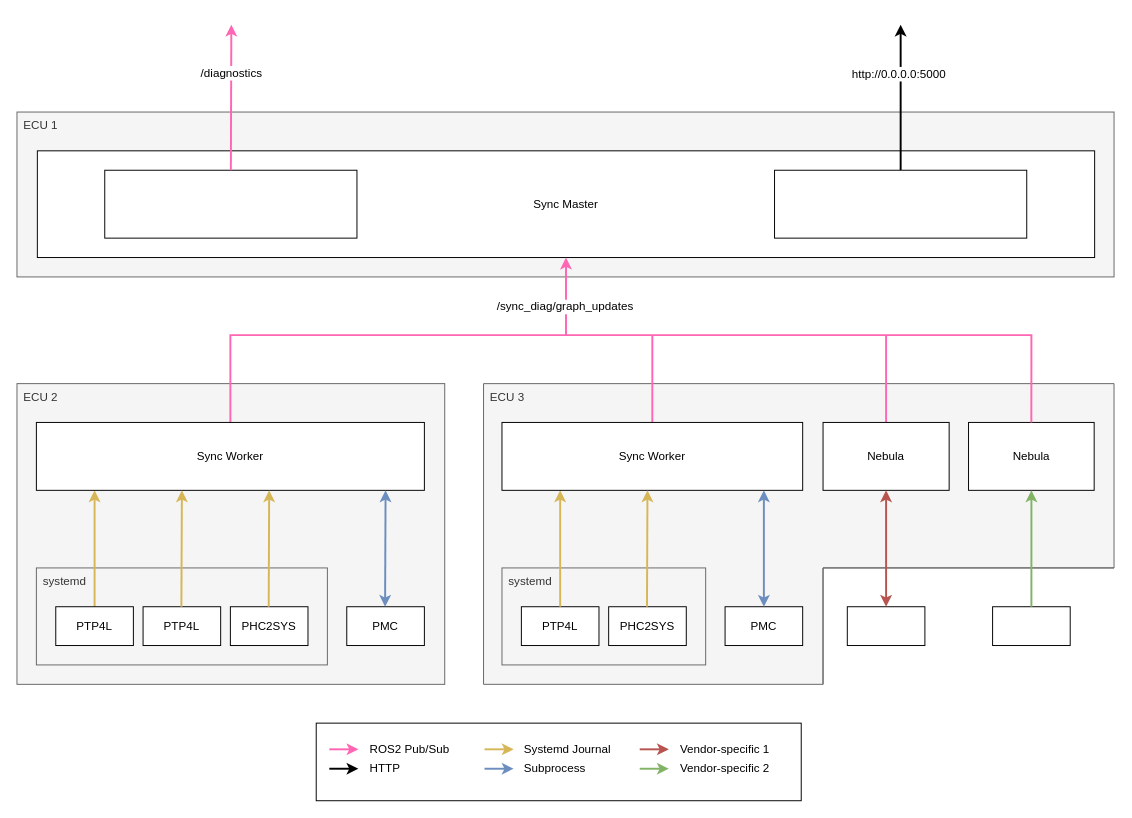
This 1132x818 diagram has some shape labels left out. Here are the shapes that lost their labels. From the top down, the centre of each, then its label:
At point 230,203: "SYNC.DIAG ROS2 Diagnostics".
At point 900,203: "SYNC.DOCTOR Web Interface".
At point 885,626: "LiDAR".
At point 1031,626: "RADAR".
